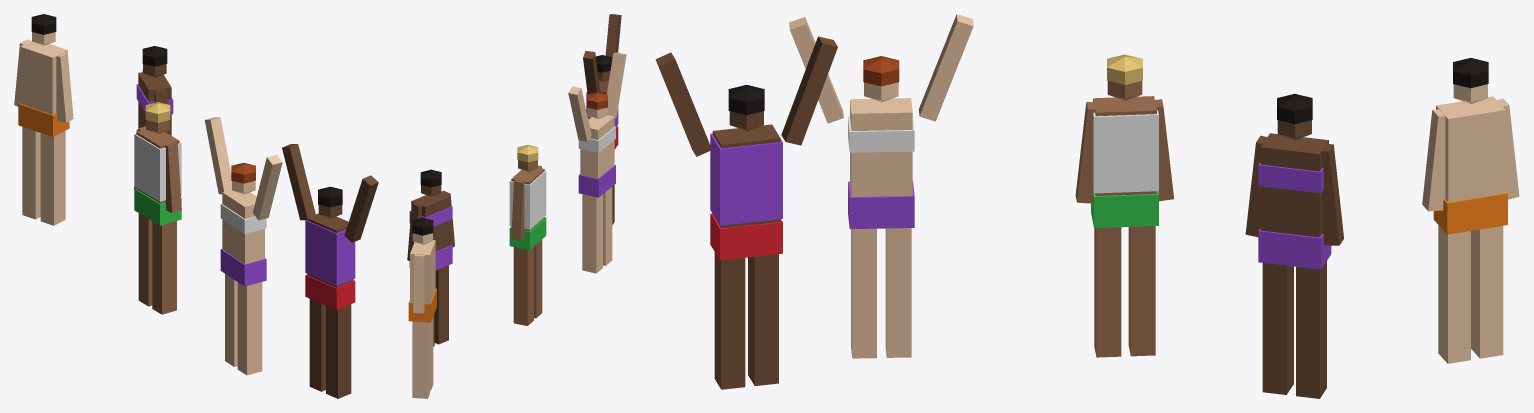
The model's file is publico_playa_4.obj.
3 renders of one model, left to right at view 1: azimuth 30°, elevation 25°; view 2: azimuth 150°, elevation 25°; view 3: azimuth 270°, elevation 25°, orthographic. The views are drawn at different scales.
Visible parts, largest first — view 1: publico_playa_4; view 2: publico_playa_4; view 3: publico_playa_4.
Part boxes in pixels (x1,y1,x2,y2): publico_playa_4: (14,14,378,398); publico_playa_4: (407,14,626,398); publico_playa_4: (655,14,1519,398).
Bounding box in the file's own units: 0.7411 × 1.92 × 4.51.
